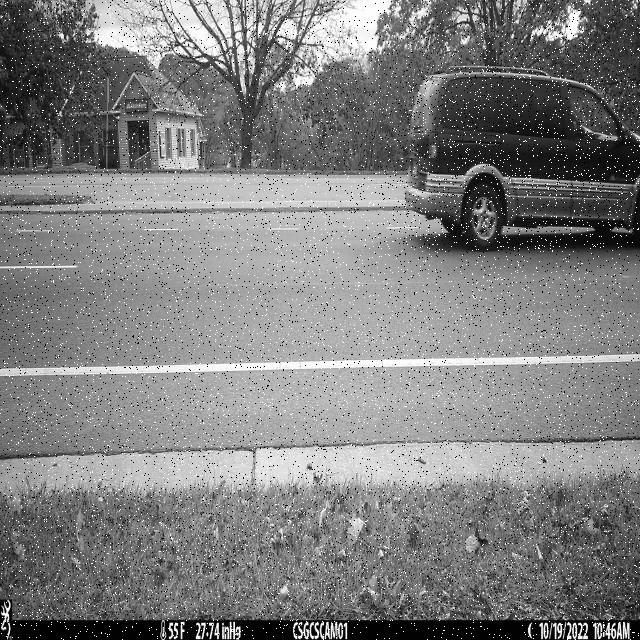Van: (404, 66, 640, 250)
